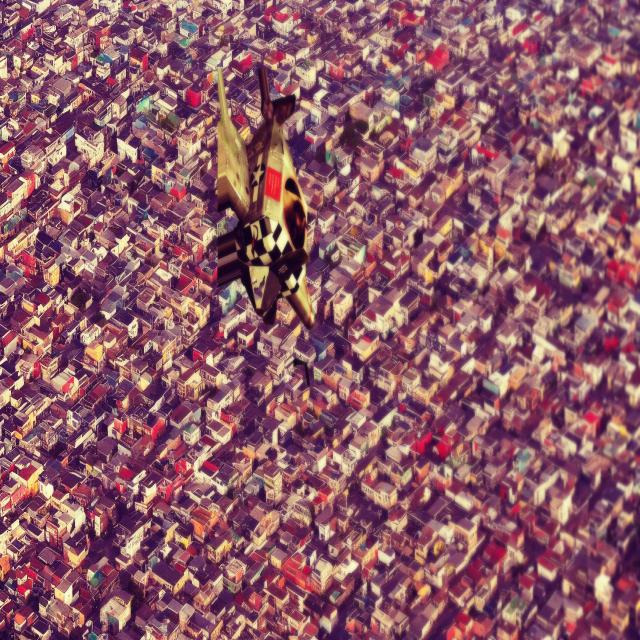airplane: (214, 61, 316, 328)
